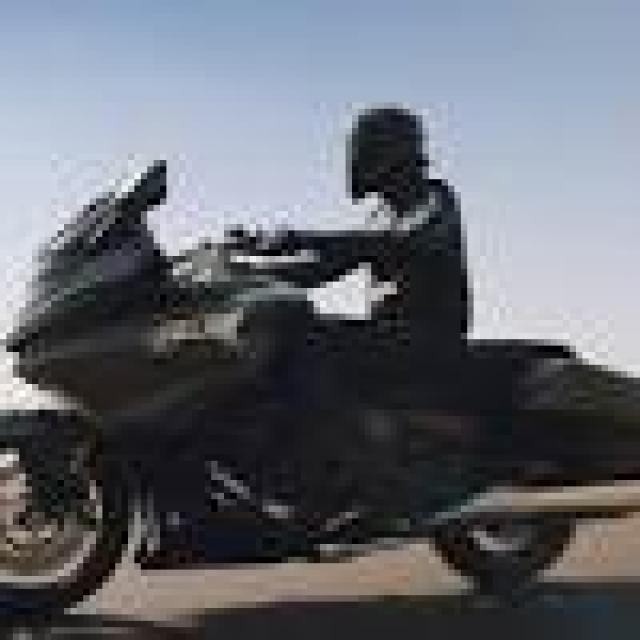Bike: (0, 158, 640, 622)
